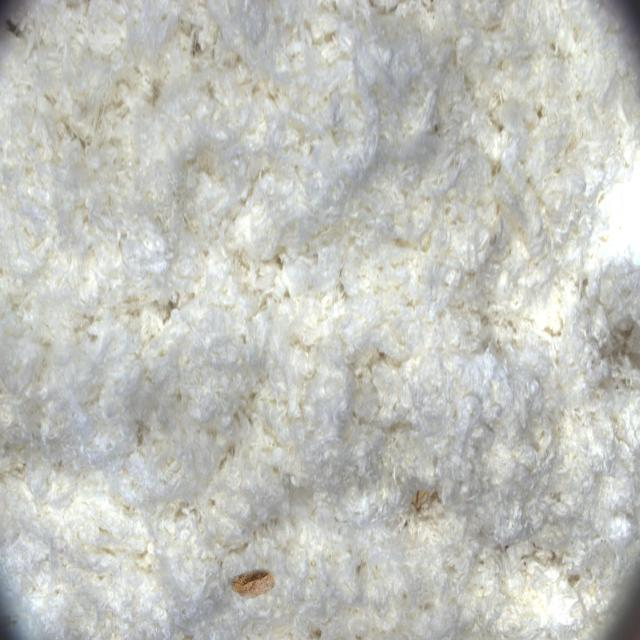dust: (212, 542, 288, 626)
